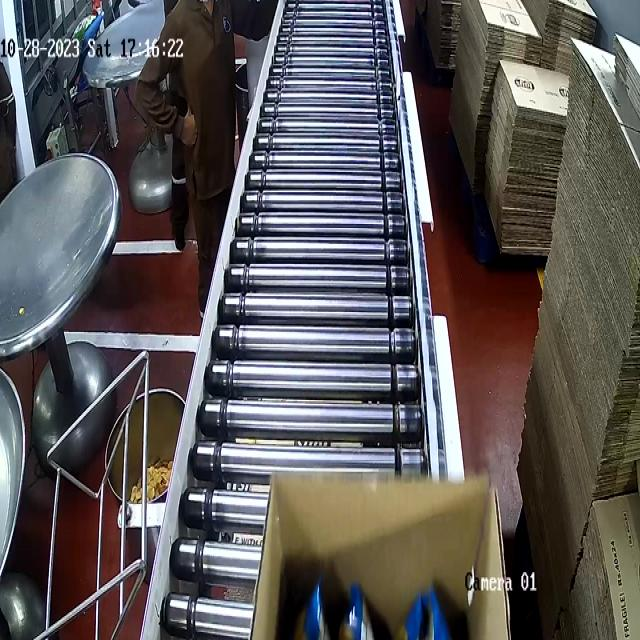PAPRIKA: (288, 550, 456, 640)
